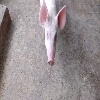heo: (35, 1, 70, 68)
